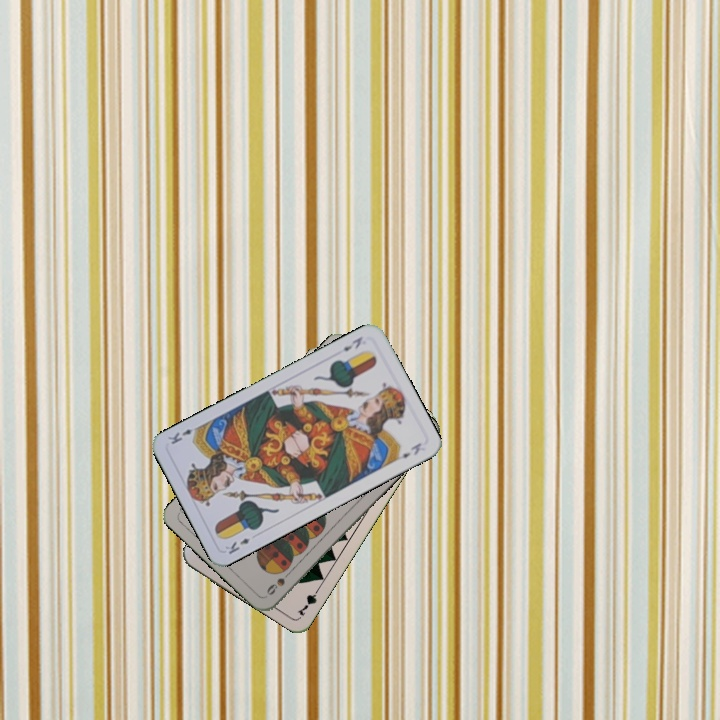EK: (221, 534, 253, 557), (339, 332, 365, 354)
G7: (293, 582, 323, 619)
S9: (263, 566, 295, 598)
